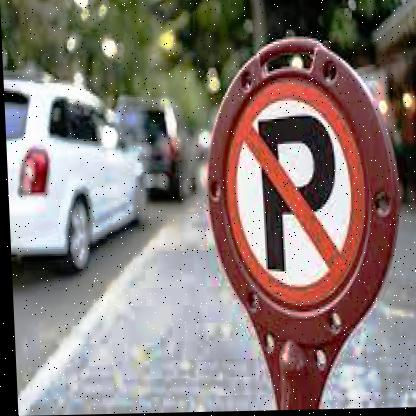No parking: (220, 82, 371, 318)
